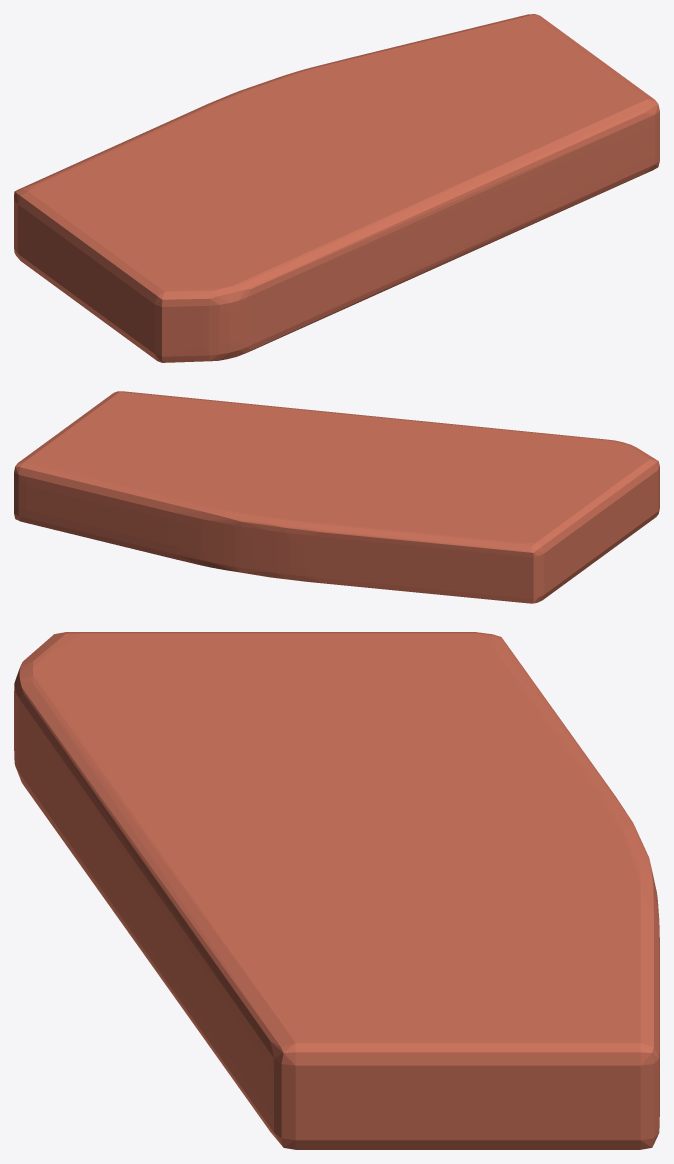
The model's file is right_ankle_link_part_9.obj.
3 renders of one model, top to bottom at view 1: azimuth 30°, elevation 25°; view 2: azimuth 150°, elevation 25°; view 3: azimuth 270°, elevation 25°, orthographic. The views are drawn at different scales.
Bounding box in the file's own units: 0.0764 × 0.00887 × 0.0492.
